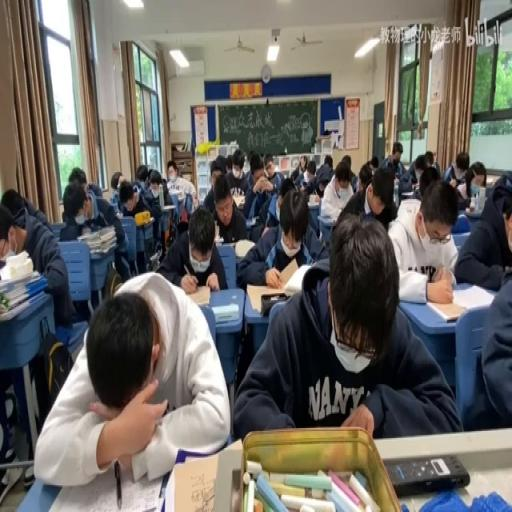calculator: (46, 455, 160, 511), (169, 453, 220, 512), (450, 284, 494, 310), (284, 263, 316, 293), (425, 299, 466, 320), (186, 283, 210, 306), (212, 302, 238, 322), (234, 238, 256, 258), (134, 213, 154, 226), (168, 189, 185, 201), (306, 194, 320, 208), (464, 206, 481, 216), (230, 194, 244, 206), (244, 215, 258, 226), (316, 211, 334, 219), (222, 240, 236, 250), (400, 191, 414, 199), (484, 175, 496, 183), (162, 204, 176, 210), (112, 189, 118, 201), (115, 209, 122, 218), (214, 236, 222, 242)
paper: (232, 215, 454, 441), (34, 266, 228, 486), (1, 188, 75, 328), (62, 180, 128, 294), (453, 174, 512, 291), (474, 273, 512, 432), (158, 202, 224, 289), (274, 175, 324, 252), (243, 150, 279, 228), (142, 166, 177, 240), (362, 164, 400, 226), (202, 155, 226, 215), (224, 148, 250, 196), (444, 151, 470, 186), (383, 141, 406, 179), (339, 190, 365, 222), (0, 205, 15, 252), (418, 166, 439, 198), (290, 154, 309, 184), (493, 171, 512, 199), (469, 162, 485, 188), (68, 165, 86, 185), (134, 164, 148, 188), (110, 170, 124, 194), (279, 178, 295, 199), (334, 171, 350, 189), (118, 190, 132, 210), (166, 159, 178, 181), (85, 180, 101, 194), (455, 181, 467, 199), (245, 148, 254, 168), (423, 151, 434, 166), (370, 154, 379, 170), (322, 155, 332, 169), (342, 155, 350, 168), (308, 165, 314, 182), (301, 182, 310, 193), (317, 180, 324, 194), (150, 179, 159, 189), (226, 160, 232, 174)
person: (386, 454, 470, 496), (260, 292, 288, 314), (230, 468, 242, 510)
